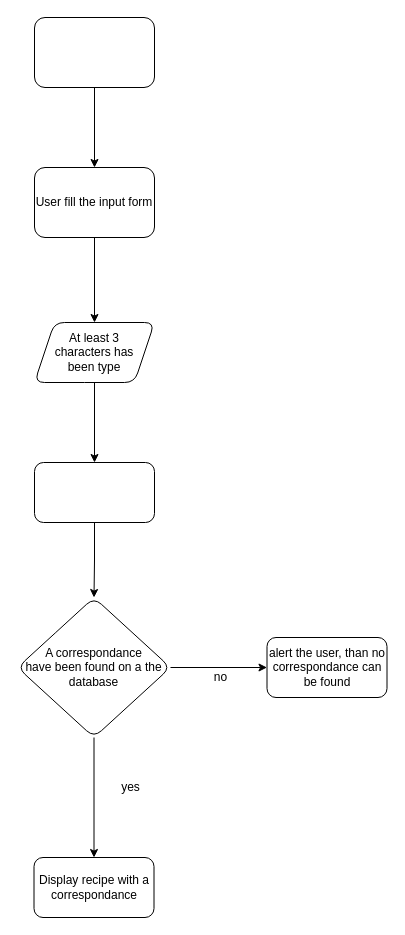
Image size: 405x935. Some labels were removed from this diagram. Each missing label, with the centre of its shape:
User Select main input form: (x=94, y=52)
We use a "FOR" loop to run through the recipes on the database: (x=94, y=492)
